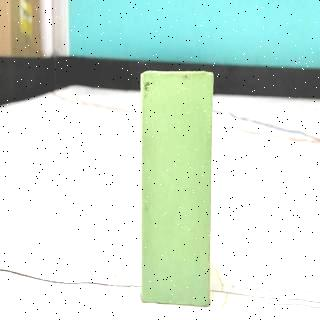greenbox: (141, 71, 211, 306)
